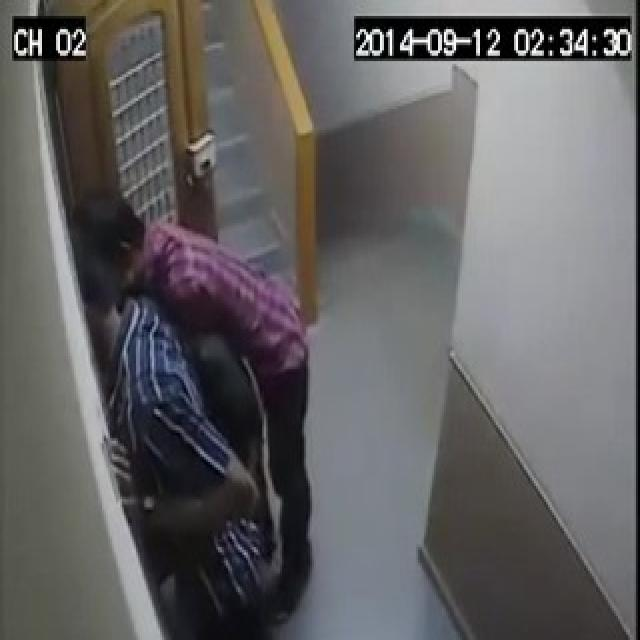thief: (67, 188, 316, 610)
